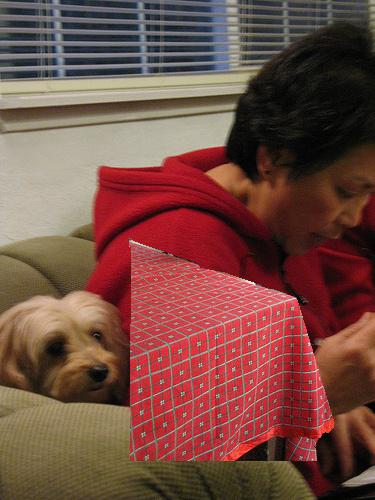tampered: (130, 239, 334, 461)
